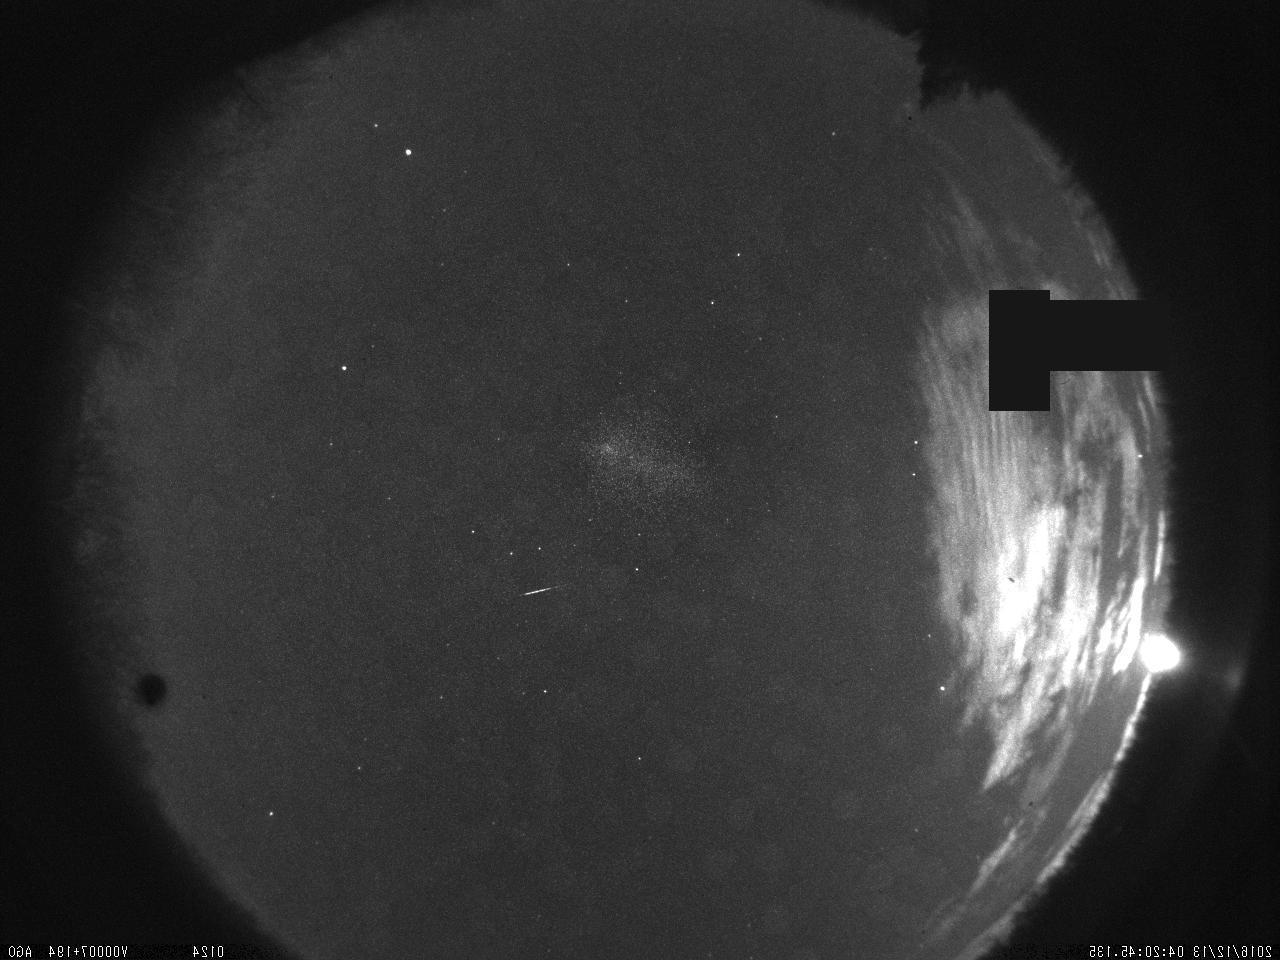meteor: (505, 569, 584, 609)
